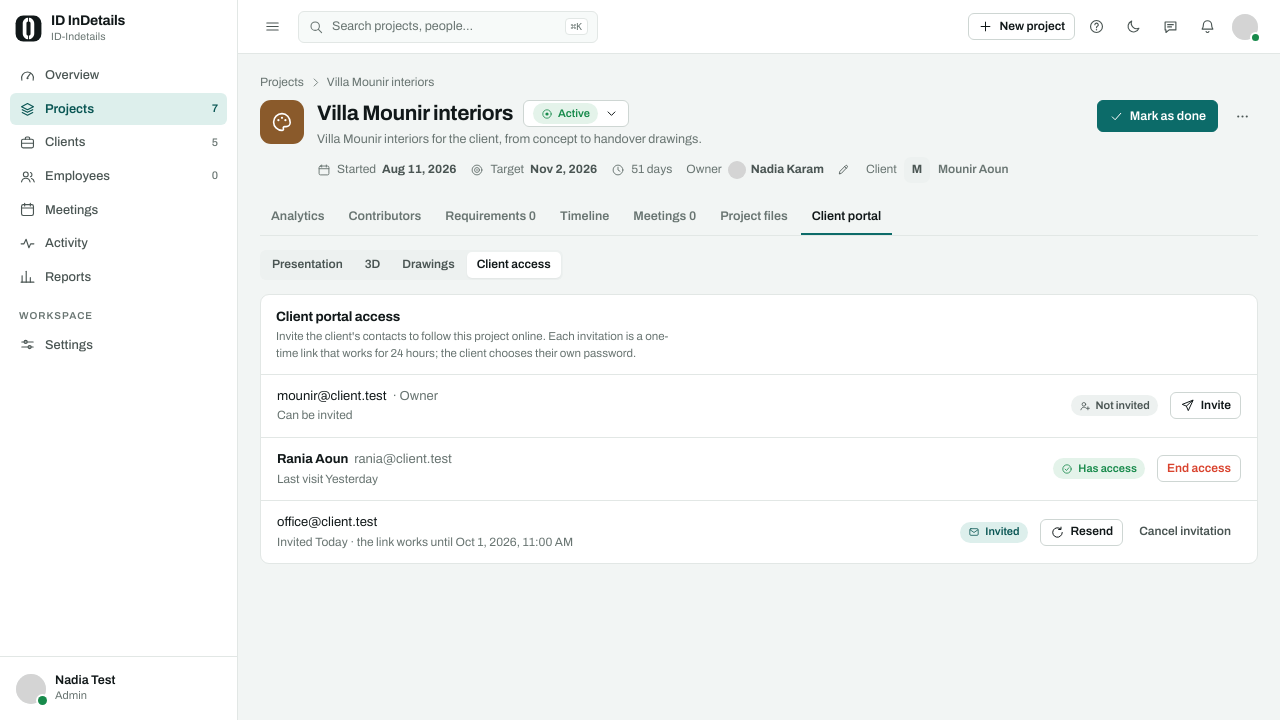
a Design project's Client portal tab › asks before ending a client's access
This screenshot has width=1280, height=720.
Expected: the text "rania@client.test" is shown, 354,450 -> 452,469
Click the button "End access": coordinates (1199, 469) 1157,455 -> 1241,482
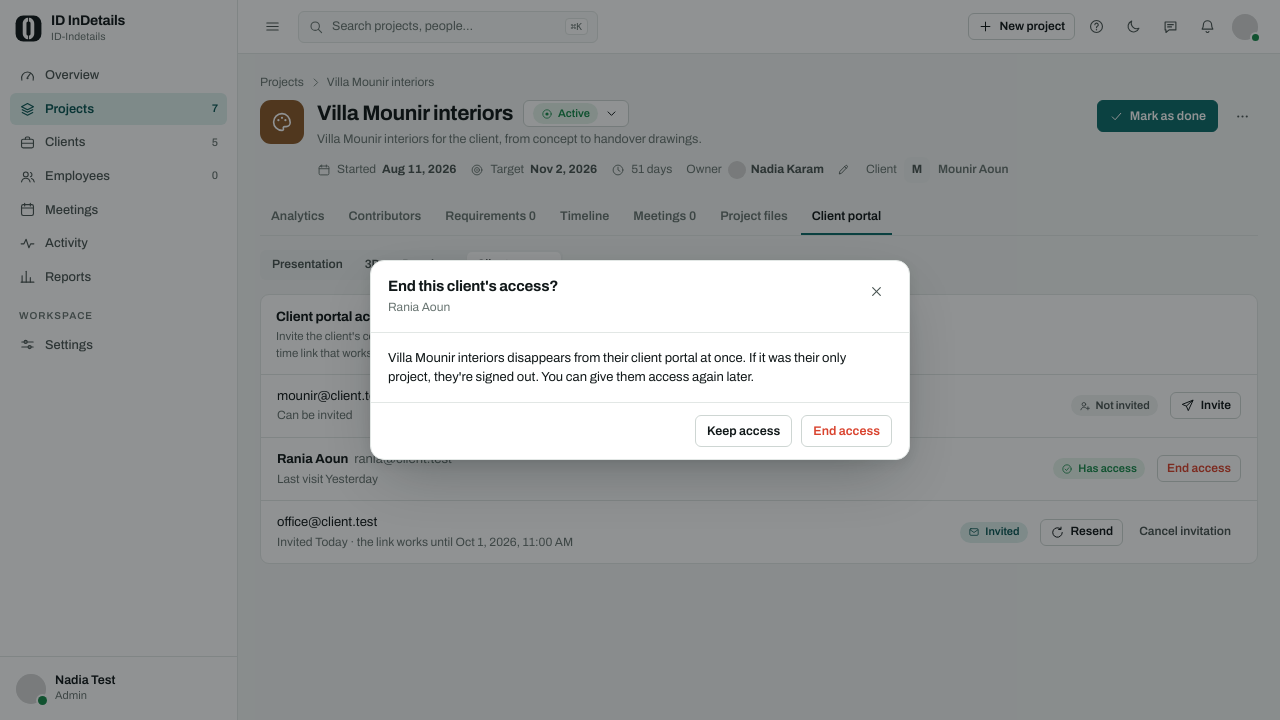
Click the button "End access": coordinates (847, 431) 801,415 -> 892,447
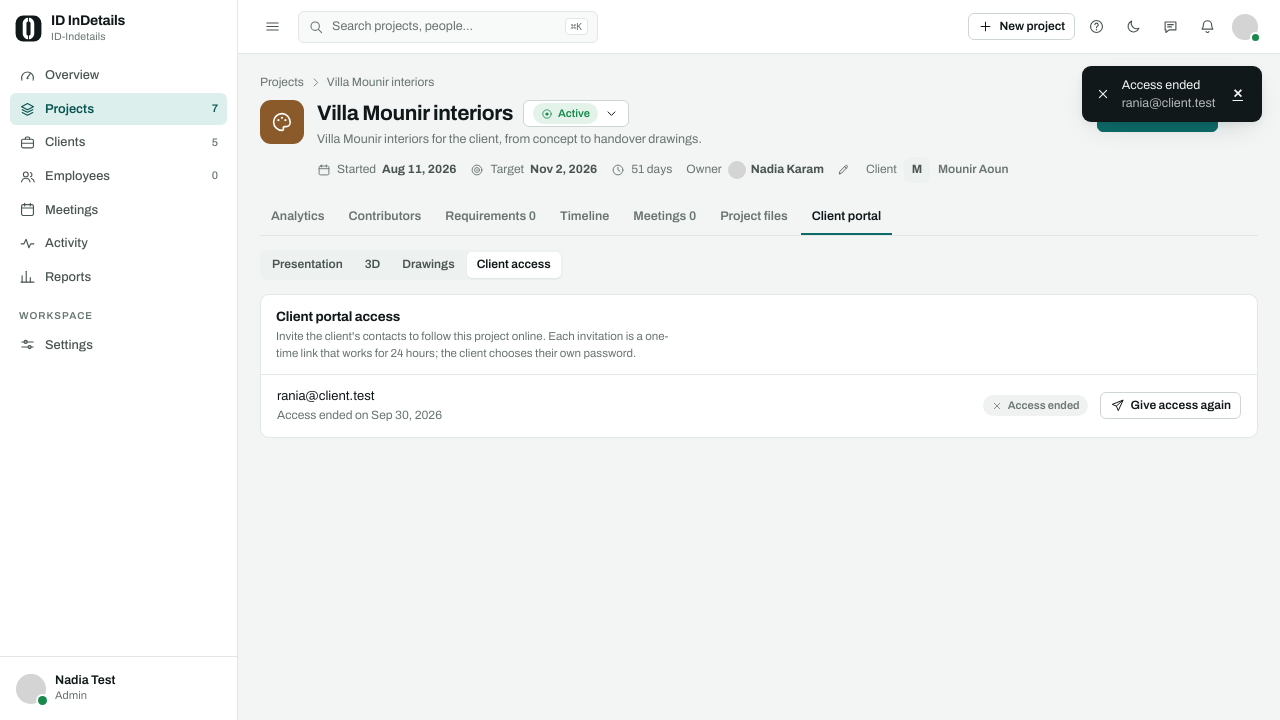
Now the text "Access ended" is shown, box 983,395 -> 1088,416
Now the dialog is gone
